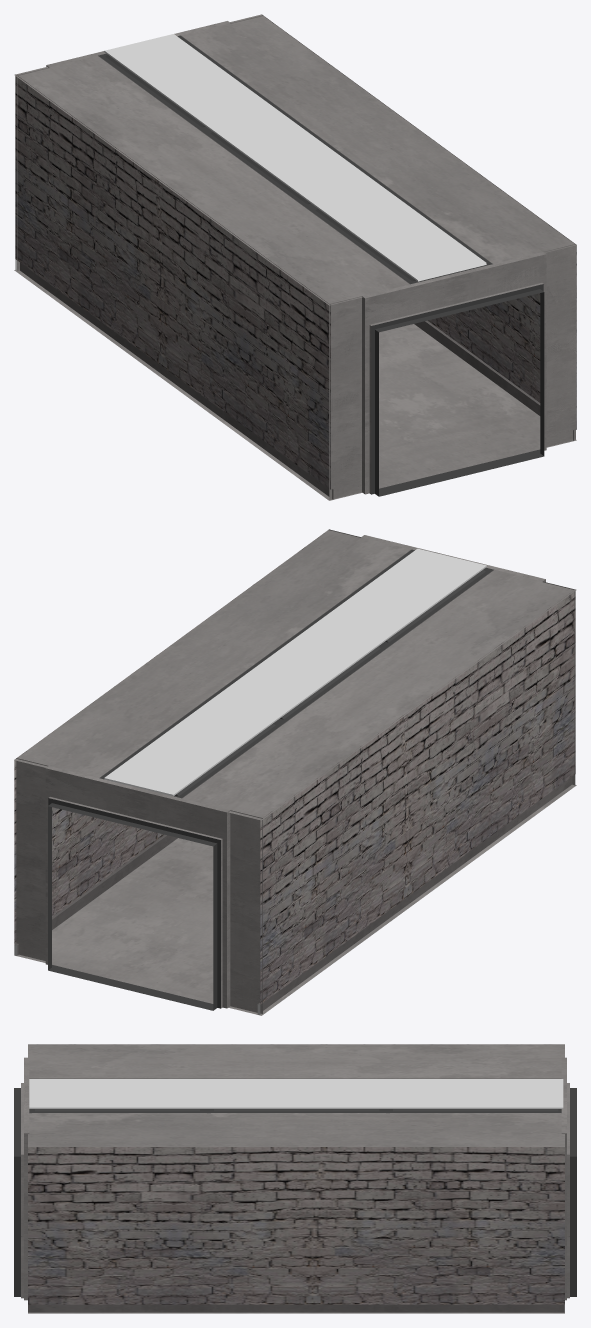
The model's file is hallway_haff.fbx.
3 views of the same model, one above another, from view 1: azimuth 30°, elevation 25°; view 2: azimuth 150°, elevation 25°; view 3: azimuth 270°, elevation 25° (orthographic). The views are drawn at different scales.
Visible parts, largest first — view 1: wall001, Ceiling001, wall_door_frame001, light001, floor001, wall_door_frame002, wall002, wall_door_frame003; view 2: wall001, Ceiling001, wall_door_frame003, light001, floor001, wall002, wall_door_frame001; view 3: wall002, Ceiling001, light001, wall_door_frame003, wall_door_frame001, wall_door_frame002, floor001, wall001.
Part boxes in pixels (left/top/right/bottom): wall001: left=15, top=74, right=333, bottom=499; Ceiling001: left=14, top=14, right=576, bottom=305; wall_door_frame001: left=329, top=244, right=575, bottom=499; light001: left=104, top=34, right=486, bottom=281; floor001: left=14, top=269, right=576, bottom=500; wall_door_frame002: left=329, top=246, right=575, bottom=499; wall002: left=262, top=14, right=576, bottom=440; wall_door_frame003: left=17, top=15, right=263, bottom=271; wall001: left=257, top=590, right=575, bottom=1015; Ceiling001: left=14, top=530, right=576, bottom=820; wall_door_frame003: left=16, top=758, right=262, bottom=1013; light001: left=104, top=548, right=486, bottom=796; floor001: left=17, top=784, right=576, bottom=1015; wall002: left=14, top=530, right=328, bottom=955; wall_door_frame001: left=328, top=529, right=575, bottom=785; wall002: left=28, top=1147, right=564, bottom=1312; Ceiling001: left=28, top=1044, right=564, bottom=1146; light001: left=29, top=1079, right=563, bottom=1108; wall_door_frame003: left=561, top=1057, right=576, bottom=1300; wall_door_frame001: left=14, top=1057, right=29, bottom=1278; wall_door_frame002: left=14, top=1057, right=29, bottom=1300; floor001: left=28, top=1312, right=564, bottom=1313; wall001: left=28, top=1044, right=564, bottom=1044.
Bounding box in the file's own units: 31.77 × 24.32 × 73.38.
